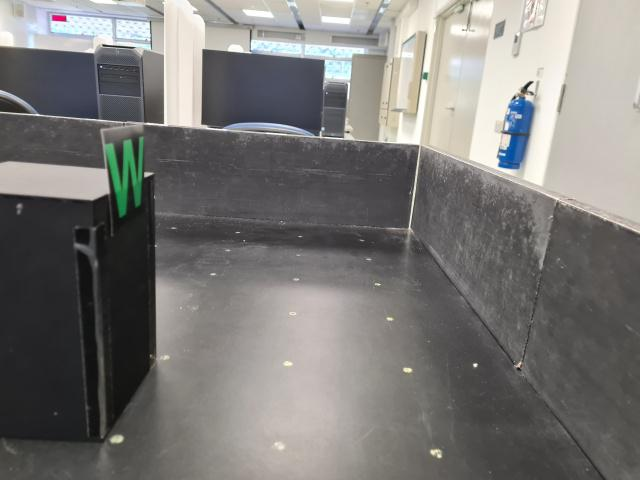w: (96, 124, 149, 235)
